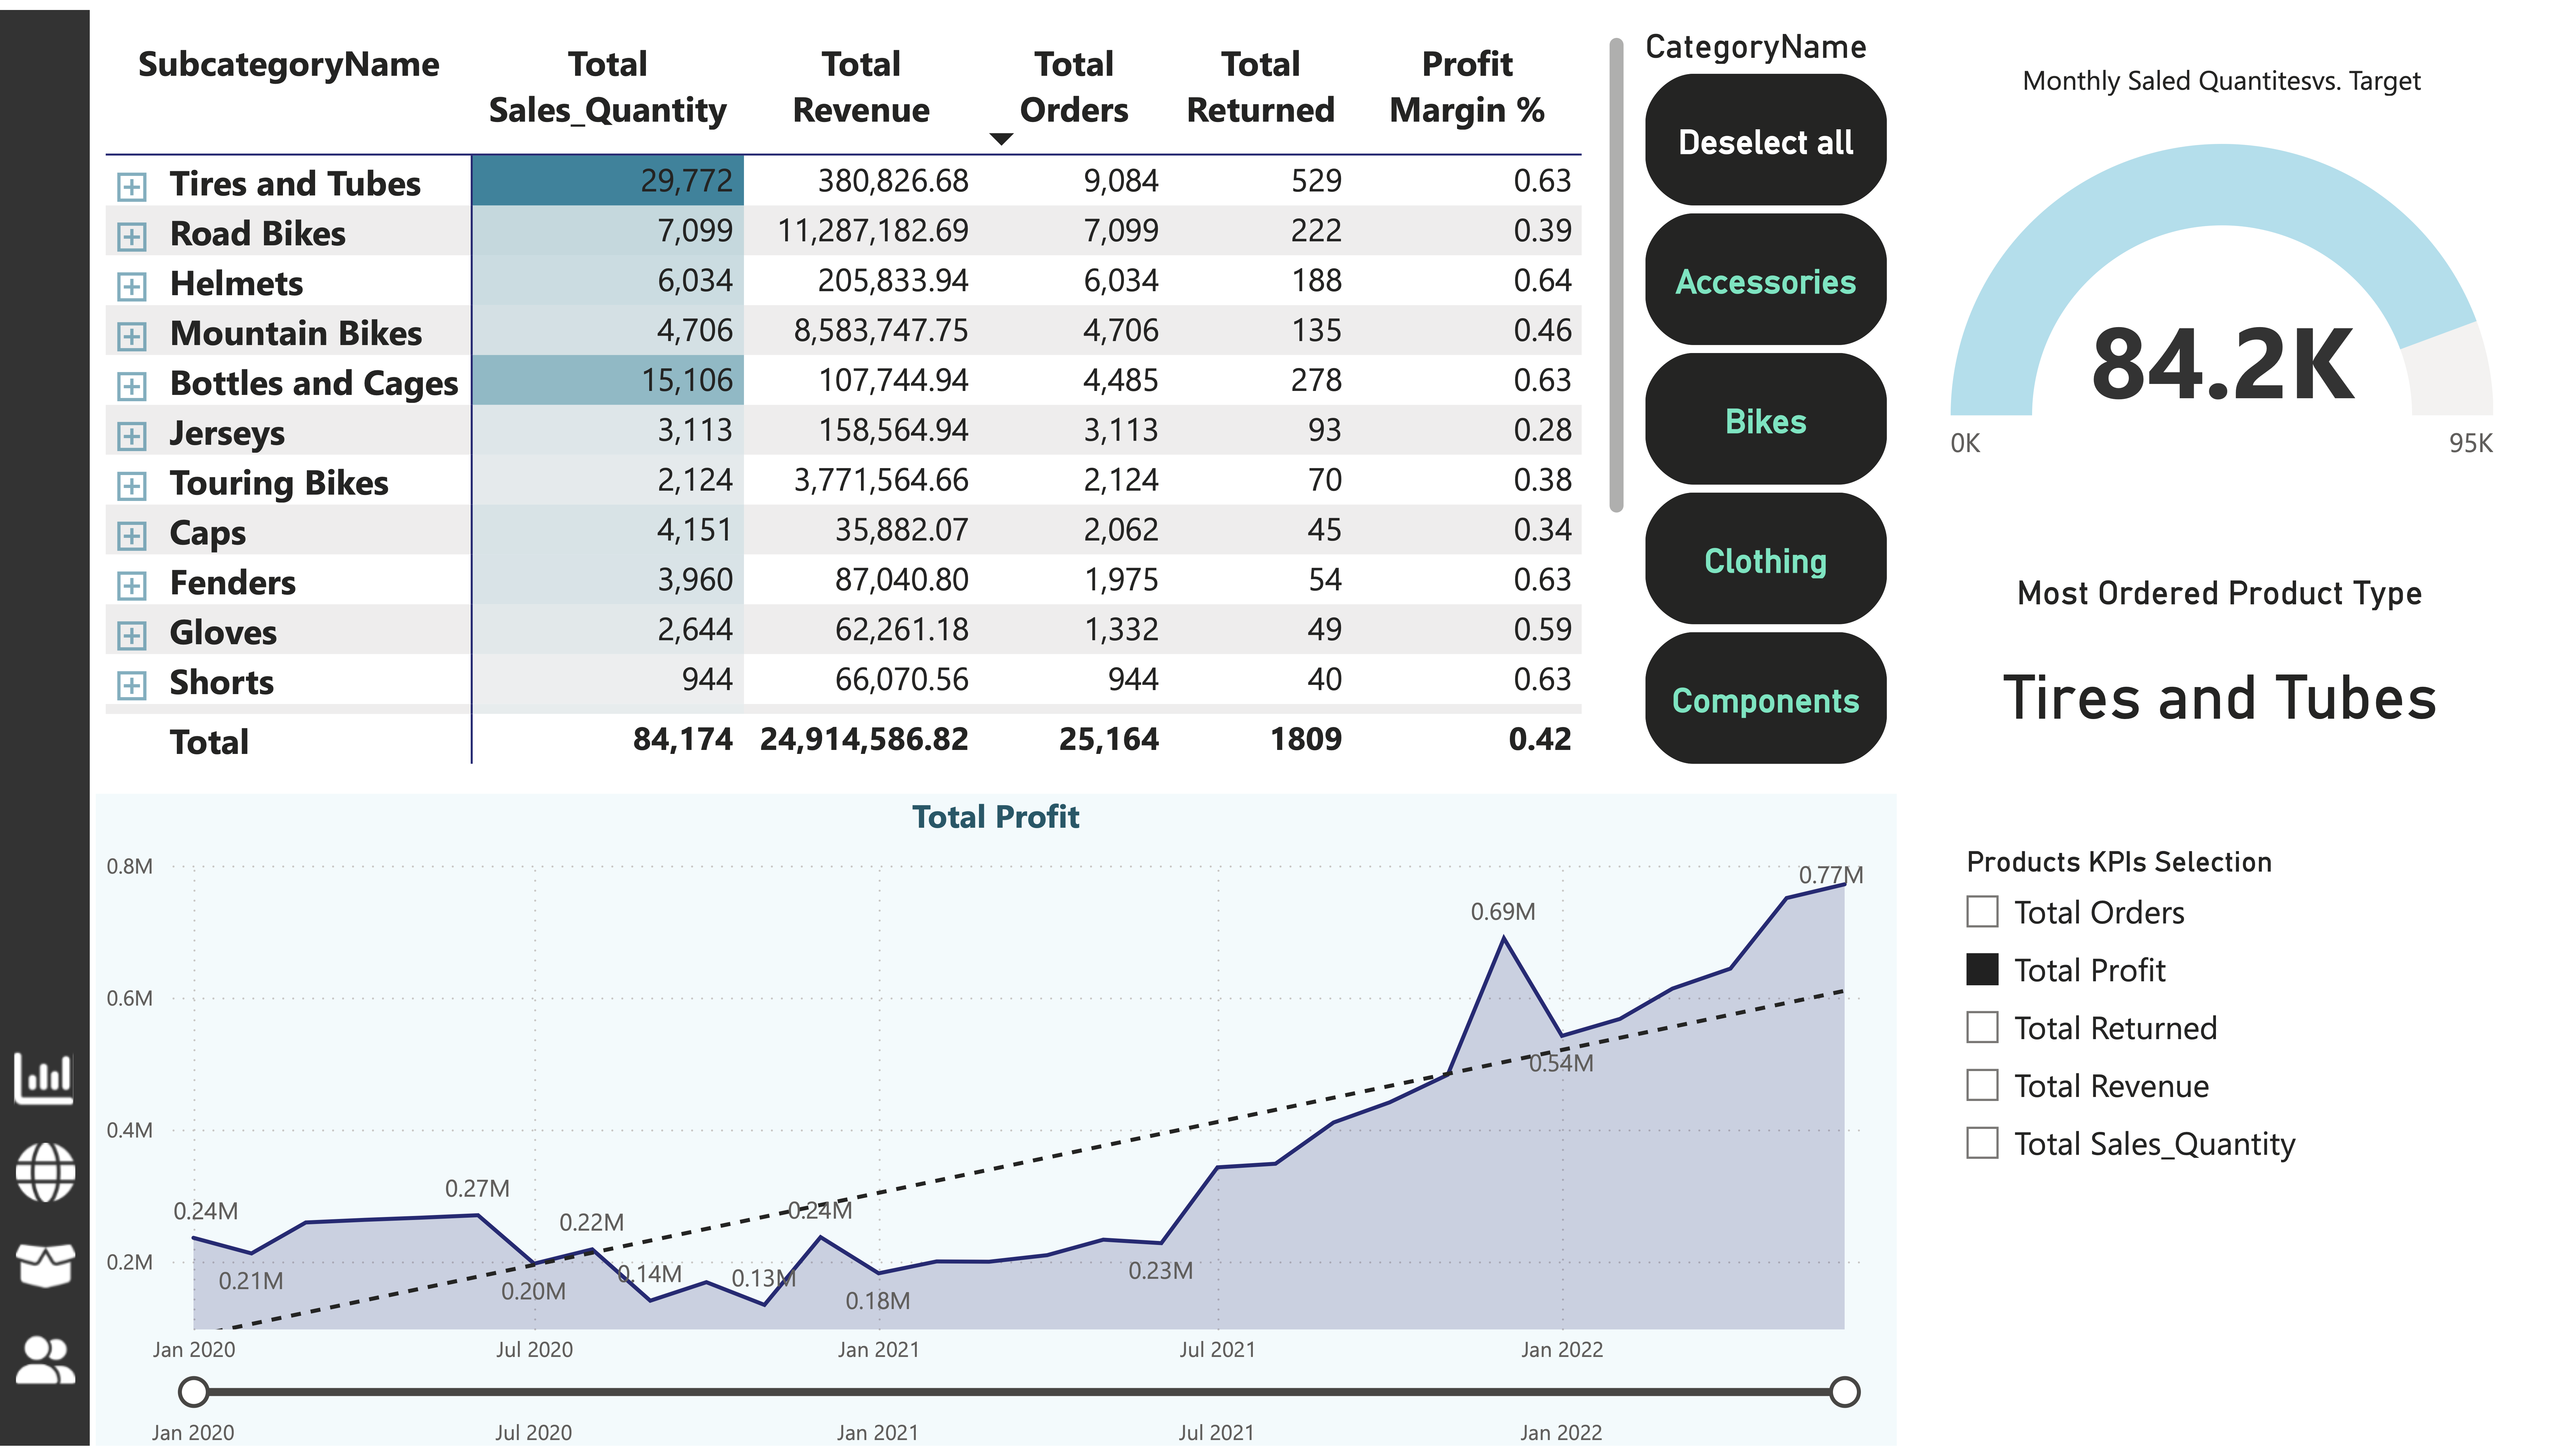

This screenshot's page, from the dashboard's own definition file:
{"tool":"powerbi","page":{"name":"Product Detail","canvas":[1280,720],"ordinal":2},"visuals":[{"type":"actionButton","box":[2.5,516.7,45.6,37.8],"z":0,"group":"g1"},{"type":"areaChart","fields":{"Y":["FactSales.Total Profit"],"Category":["dim_Date.Year Hierarchy.Year","dim_Date.Year Hierarchy.Start of month","dim_Date.Year Hierarchy.Start of week","dim_Date.Year Hierarchy.Date"]},"box":[47.8,392.7,902.8,326.8],"z":0},{"type":"shape","title":"Left Nav Background","box":[0,0,45,720],"z":1000},{"type":"actionButton","box":[3.3,563.4,45.6,37.8],"z":1000,"group":"g1"},{"type":"actionButton","box":[3.3,611.1,45.6,37.8],"z":2000,"group":"g1"},{"type":"group","id":"g1","title":"Navigation Buttons","box":[2.5,516.7,46.4,178.9],"z":2000},{"type":"pivotTable","fields":{"Rows":["dim_productsubcategory.SubcategoryName","dim_product.ProductName"],"Values":["FactSales.Total Sales_Quantity","FactSales.Total Revenue","FactSales.Total Orders","FactSales.Total Returned","FactSales.Profit Margin %"]},"box":[48.1,7.8,771.5,375.1],"z":3000},{"type":"actionButton","box":[3.3,657.8,45.6,37.8],"z":3000,"group":"g1"},{"type":"advancedSlicerVisual","fields":{"Values":["dim_productcategory.CategoryName"]},"box":[819.7,7.8,131,375.1],"z":4000},{"type":"slicer","fields":{"Values":["Products KPIs Selection.Products KPIs Selection"]},"box":[973.1,414.3,248.6,235.1],"z":5000},{"type":"gauge","title":"Monthly Saled Quantitesvs. Target","fields":{"Y":["FactSales.Total Sales_Quantity"],"MaxValue":["FactSales.Quantity Target"]},"box":[973.1,25.8,282.2,228.4],"z":6000},{"type":"card","title":"Most Ordered Product Type","fields":{"Values":["Min(dim_productsubcategory.SubcategoryName)"]},"box":[995.5,282.2,236.3,100.8],"z":7000}]}

Visuals, with their boxes in screenshot pixels (x1, y1, x2, y2), scaled from the page's 1280x720 canvas onto the 2553x1456 screenshot:
actionButton: crop(5, 1045, 96, 1121)
areaChart - FactSales.Total Profit x dim_Date.Year Hierarchy.Year: crop(95, 794, 1896, 1455)
"Left Nav Background" shape: crop(0, 0, 90, 1456)
actionButton: crop(7, 1139, 97, 1216)
actionButton: crop(7, 1236, 97, 1312)
"Navigation Buttons" group: crop(5, 1045, 97, 1407)
pivotTable - dim_productsubcategory.SubcategoryName x dim_product.ProductName: crop(96, 16, 1635, 774)
actionButton: crop(7, 1330, 97, 1407)
advancedSlicerVisual - dim_productcategory.CategoryName: crop(1635, 16, 1896, 774)
slicer - Products KPIs Selection.Products KPIs Selection: crop(1941, 838, 2437, 1313)
"Monthly Saled Quantitesvs. Target" gauge: crop(1941, 52, 2504, 514)
"Most Ordered Product Type" card: crop(1986, 571, 2457, 775)
